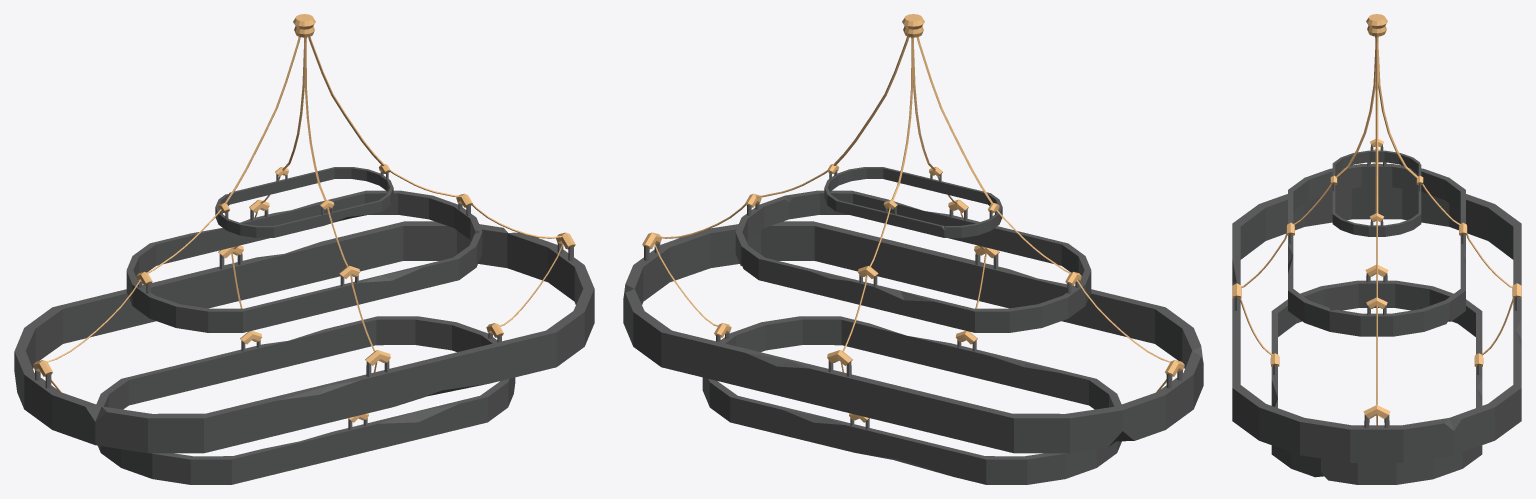
File: SFHW_Herbs_Hanger.fbx
3 views of the same model, side by side, from view 1: azimuth 30°, elevation 25°; view 2: azimuth 150°, elevation 25°; view 3: azimuth 270°, elevation 25° (orthographic). The views are drawn at different scales.
Visible parts, largest first — view 1: SFHW_Herbs_Hanger; view 2: SFHW_Herbs_Hanger; view 3: SFHW_Herbs_Hanger.
Part boxes in pixels (bbox=[...]): SFHW_Herbs_Hanger: bbox=[14, 14, 594, 484]; SFHW_Herbs_Hanger: bbox=[623, 14, 1203, 484]; SFHW_Herbs_Hanger: bbox=[1232, 14, 1521, 484].
Size of the model in its own units: 307 by 218 by 152.
